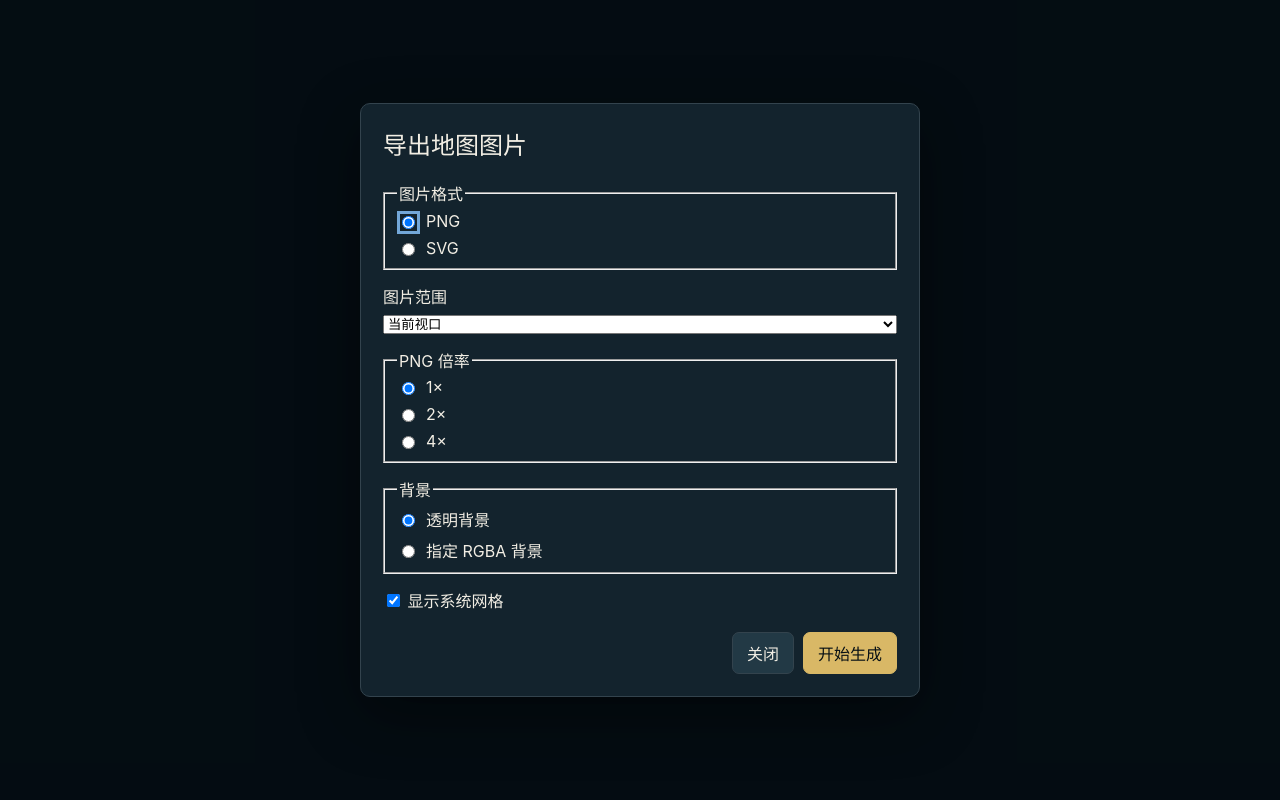
Test case: VisualExportDialog › 资源预取尚未建立导出任务时仍可取消
The image size is (1280, 800).
Click the button "开始生成" at (850, 653), box [803,632,897,674]
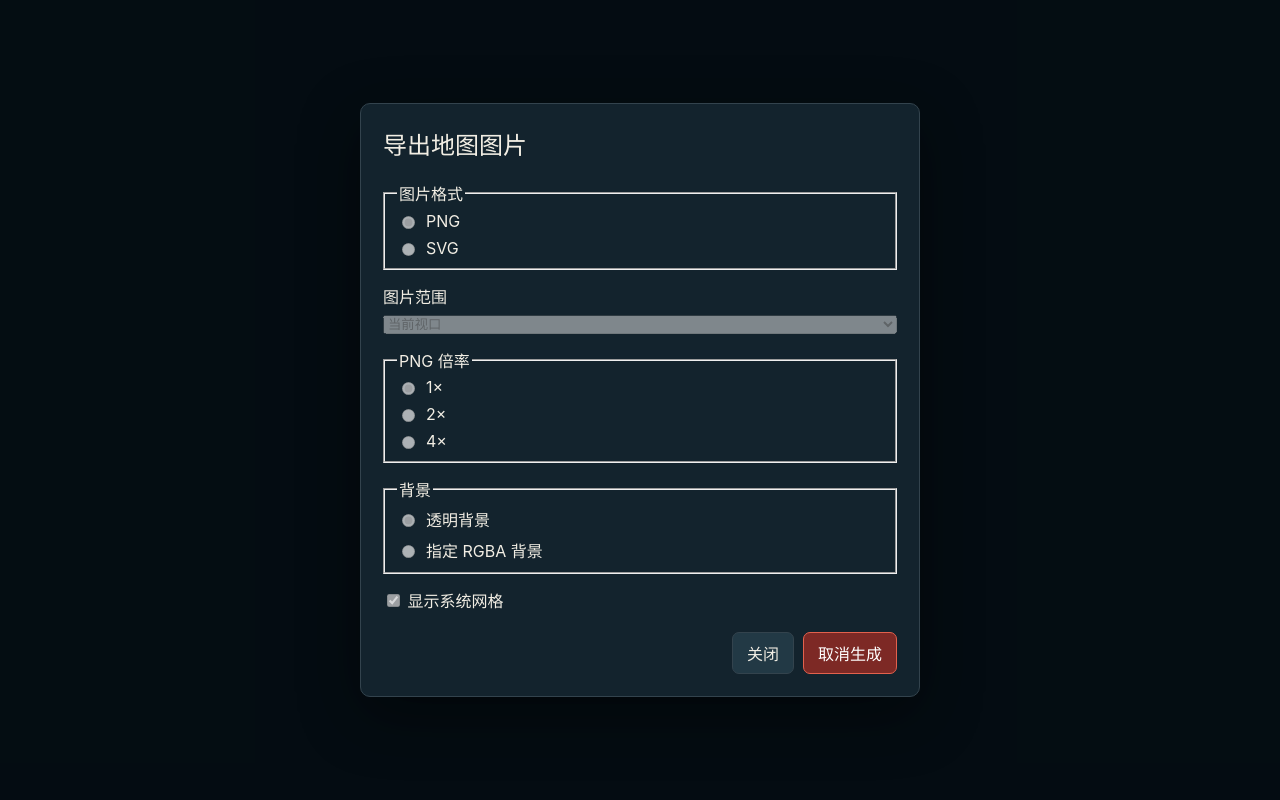
Click the button "取消生成" at (850, 653), box [803,632,897,674]
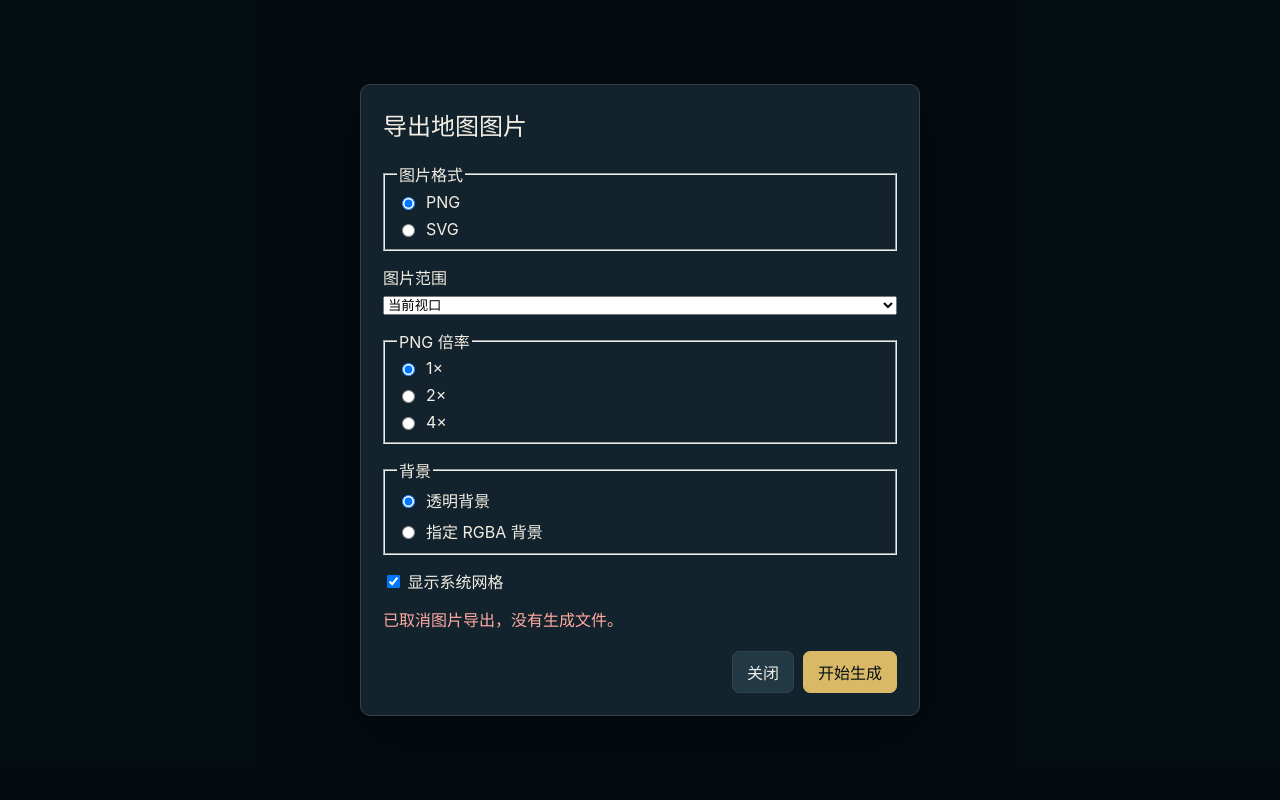
Check: the text "已取消图片导出，没有生成文件。" is shown, box [383,610,623,630]
